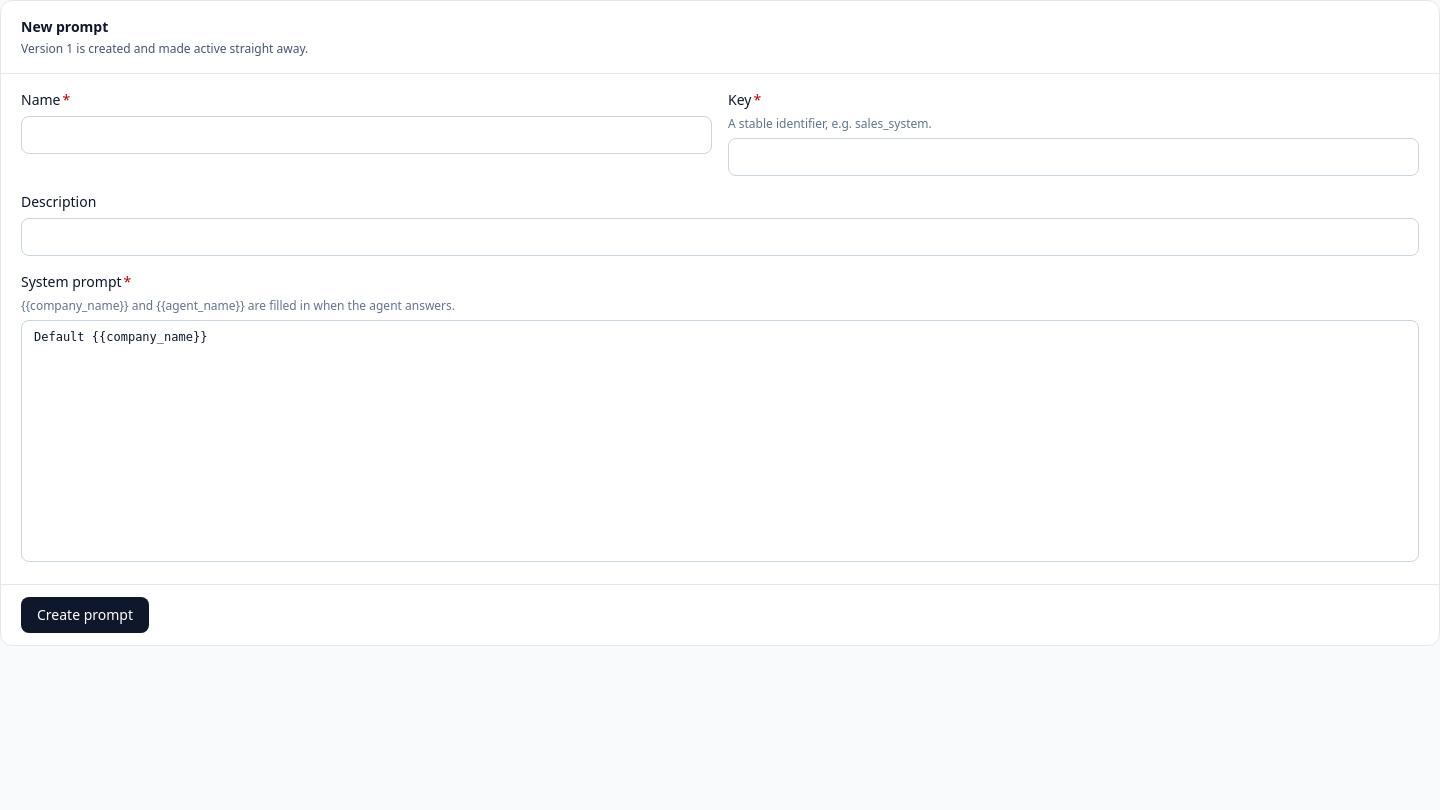
Test case: CreatePromptForm › blocks a key the API would reject
Type "Sales" into the field labelled "Name*" at (366, 135), box x1=21 y1=116 x2=712 y2=154
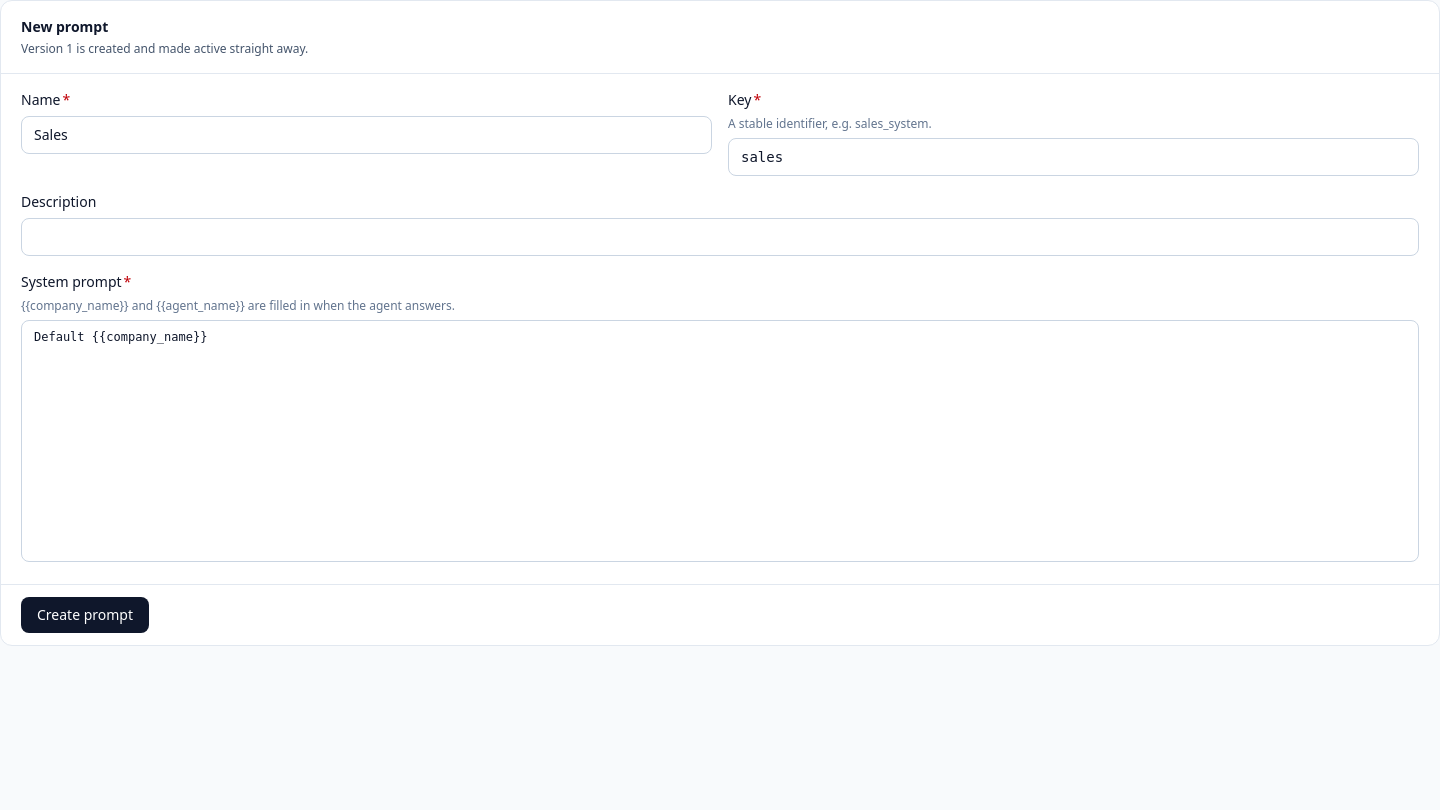
Replace the text in the field labelled "Key*" with "Bad Key" at (1074, 157), box x1=728 y1=138 x2=1419 y2=176
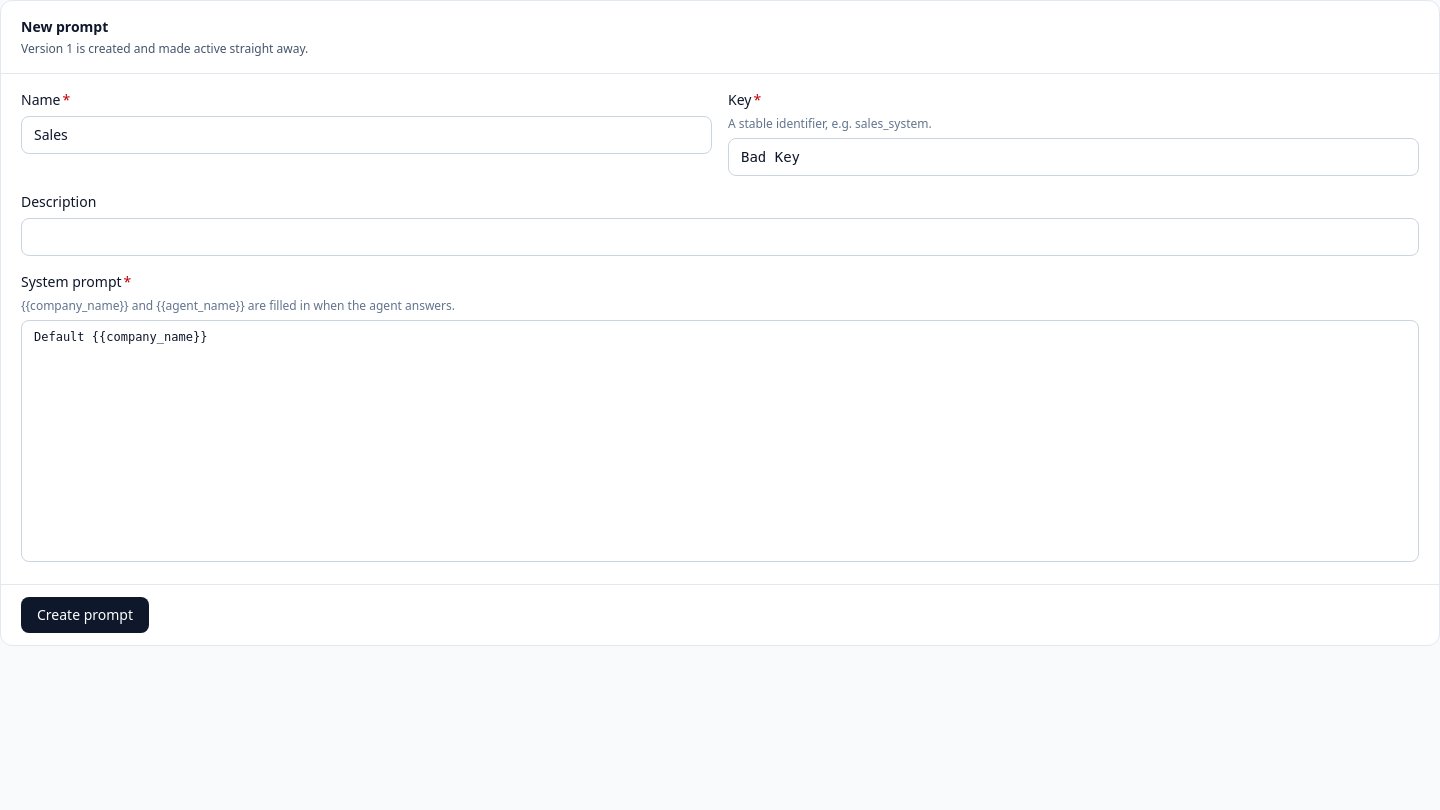
Click the button "Create prompt" at (85, 615), box x1=21 y1=597 x2=149 y2=633
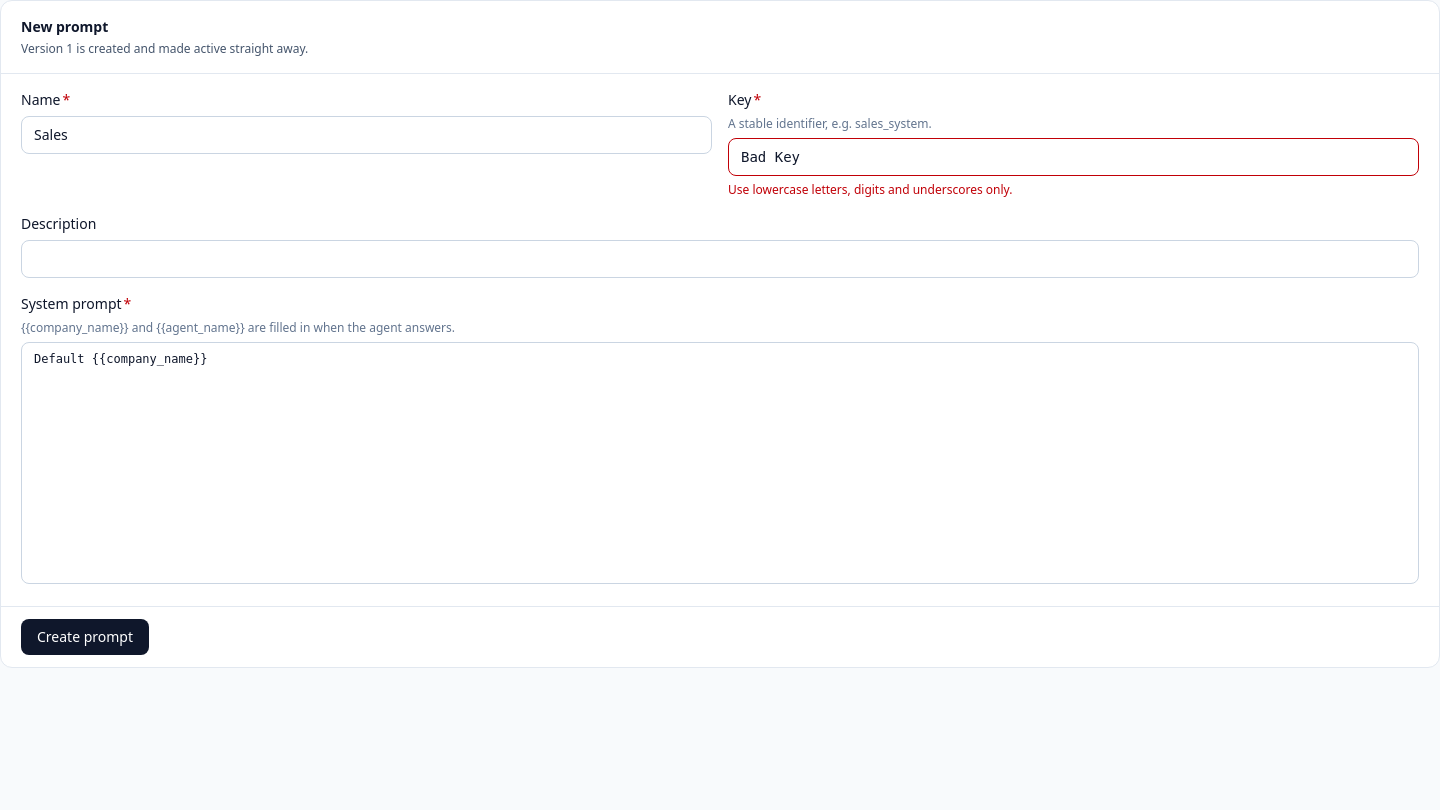
expect the text "Use lowercase letters, digits and underscores only." is shown: met, box x1=728 y1=181 x2=1012 y2=198
